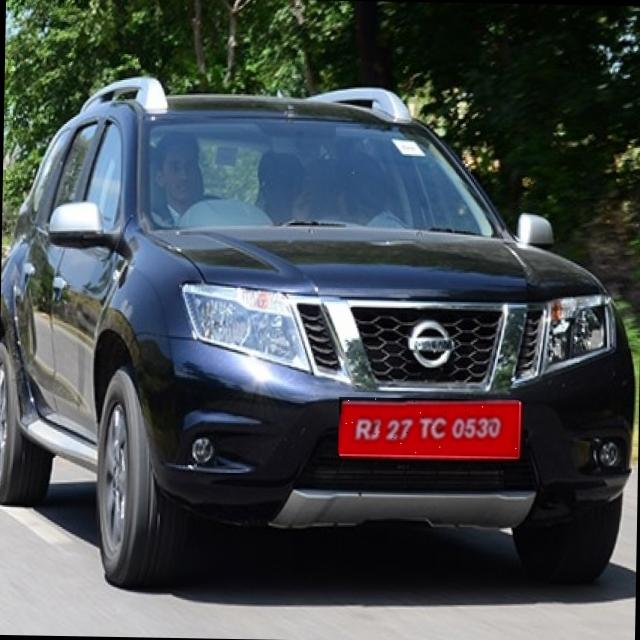Plate: (339, 398, 520, 458)
